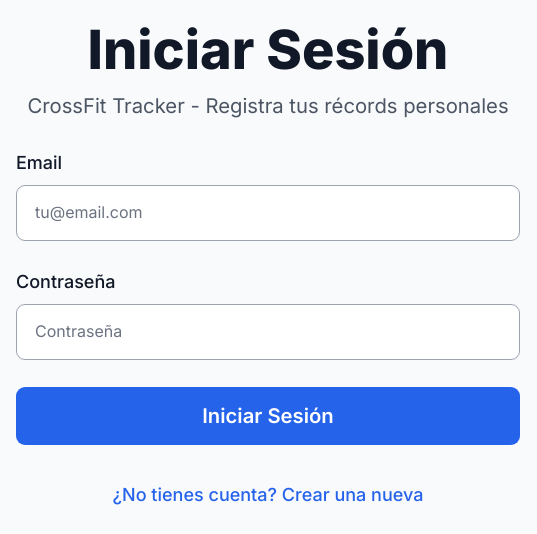
Test: AuthComponent Integration Tests › Mode Switching › should switch between login and signup modes
This screenshot has width=537, height=534.
Expected: the heading "Iniciar Sesión" is shown, left=88, top=17, right=448, bottom=82
Expected: the button "Iniciar Sesión" is shown, left=16, top=387, right=520, bottom=445
# Switch to signup
Click the button "¿No tienes cuenta? Crear una nueva" at (268, 495), box left=113, top=472, right=423, bottom=517
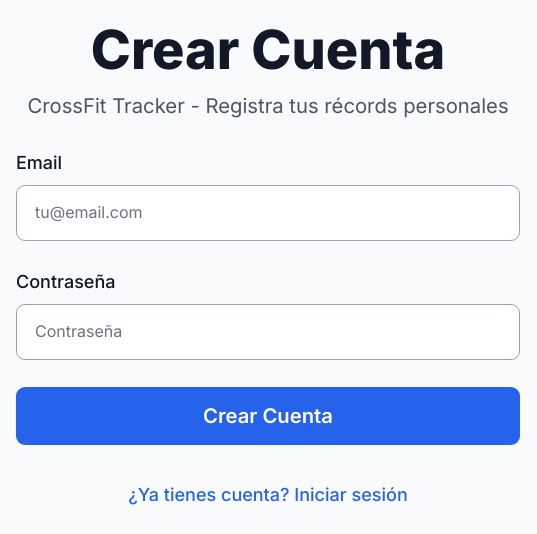
Now the heading "Crear Cuenta" is shown, box left=91, top=17, right=445, bottom=82
Now the button "Crear Cuenta" is shown, box left=16, top=387, right=520, bottom=445
# Switch back to login
Click the button "¿Ya tienes cuenta? Iniciar sesión" at (268, 495), box left=128, top=472, right=408, bottom=517
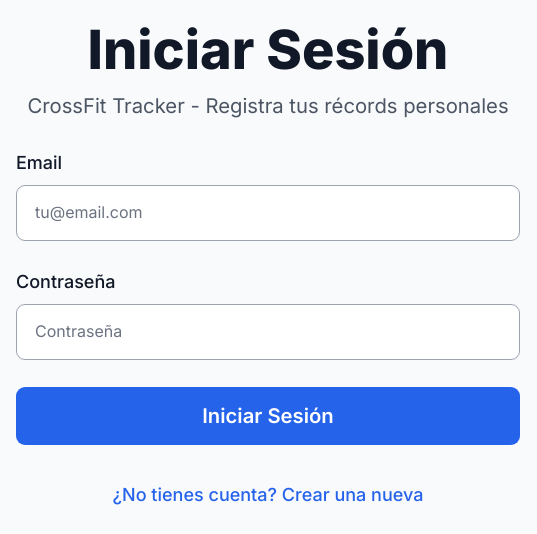
Now the heading "Iniciar Sesión" is shown, box left=88, top=17, right=448, bottom=82
Now the button "Iniciar Sesión" is shown, box left=16, top=387, right=520, bottom=445
